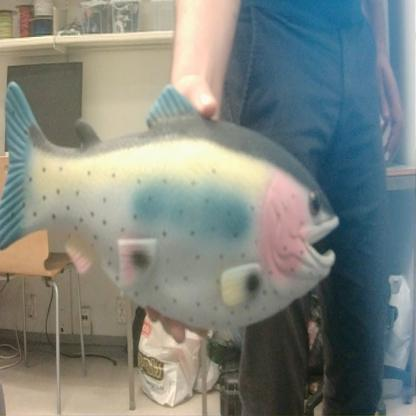rubberfish: (0, 77, 348, 336)
